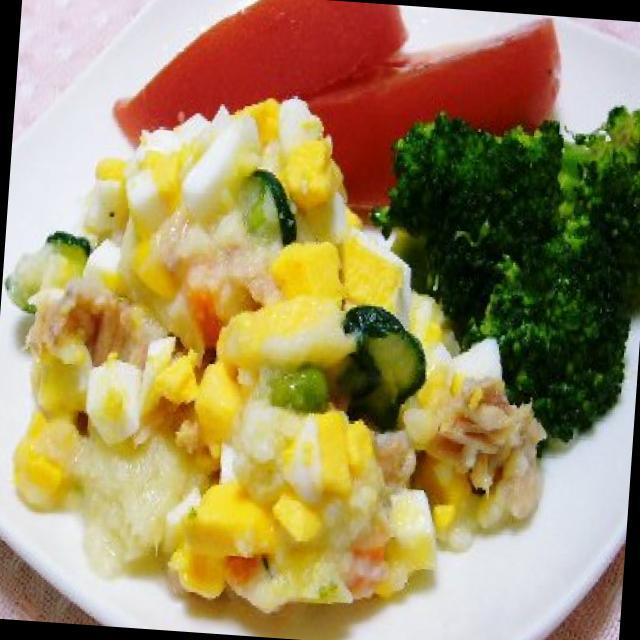Green Salad: (51, 108, 612, 583)
